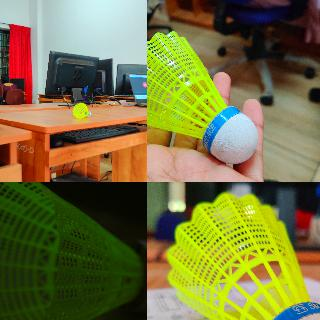shuttlecock: (0, 182, 146, 319), (164, 192, 319, 319), (147, 29, 258, 163), (72, 102, 90, 118)
